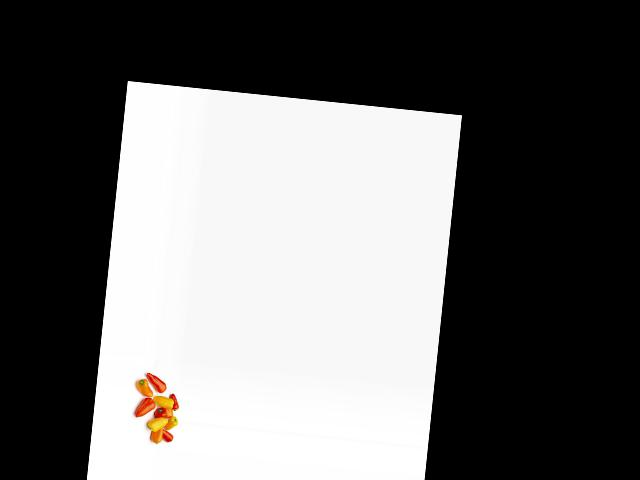bell_pepper: (169, 391, 181, 412)
